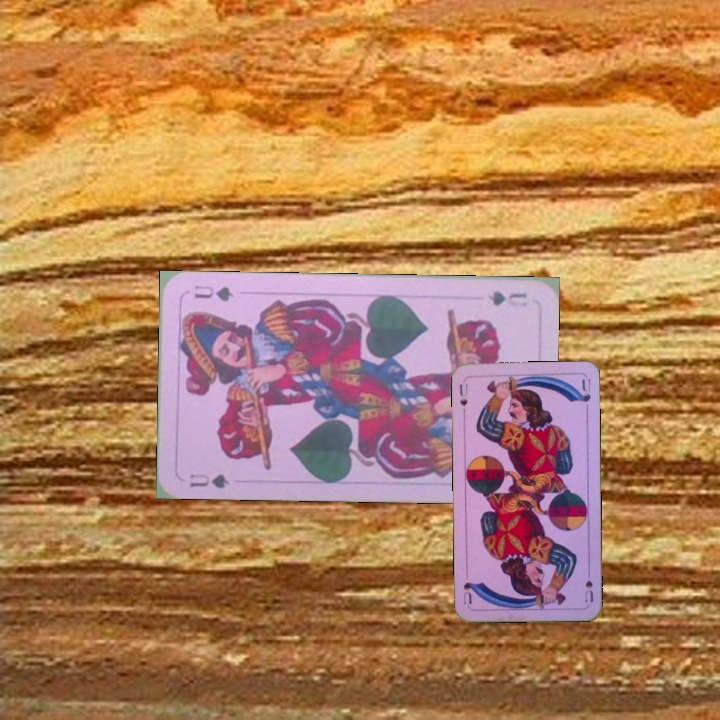GU: (484, 287, 530, 309), (186, 470, 232, 491)
SU: (581, 564, 596, 605), (456, 380, 470, 409)
